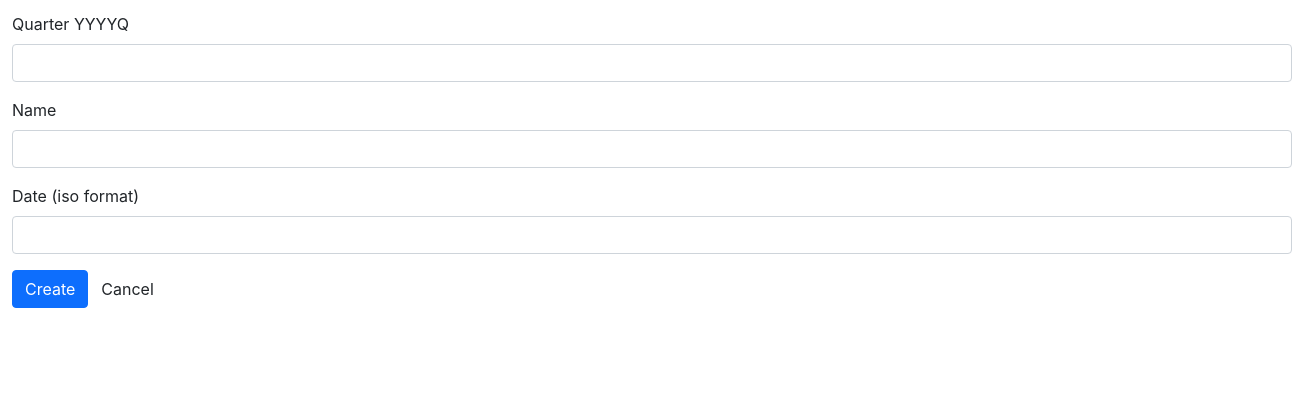
Test: UCSBDateForm tests › Correct Error messsages on bad input
Step 1. Type "bad-input" into the field with test id "UCSBDateForm-quarterYYYYQ" → {"x": 652, "y": 63}, box [12, 44, 1292, 82]
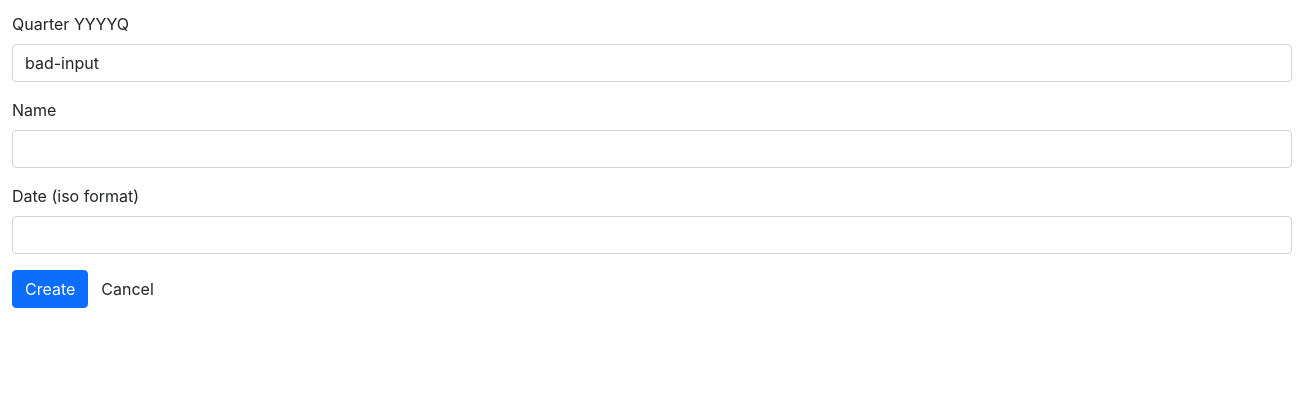
Step 2. Type "bad-input" into the field with test id "UCSBDateForm-localDateTime" → {"x": 652, "y": 235}, box [12, 216, 1292, 254]
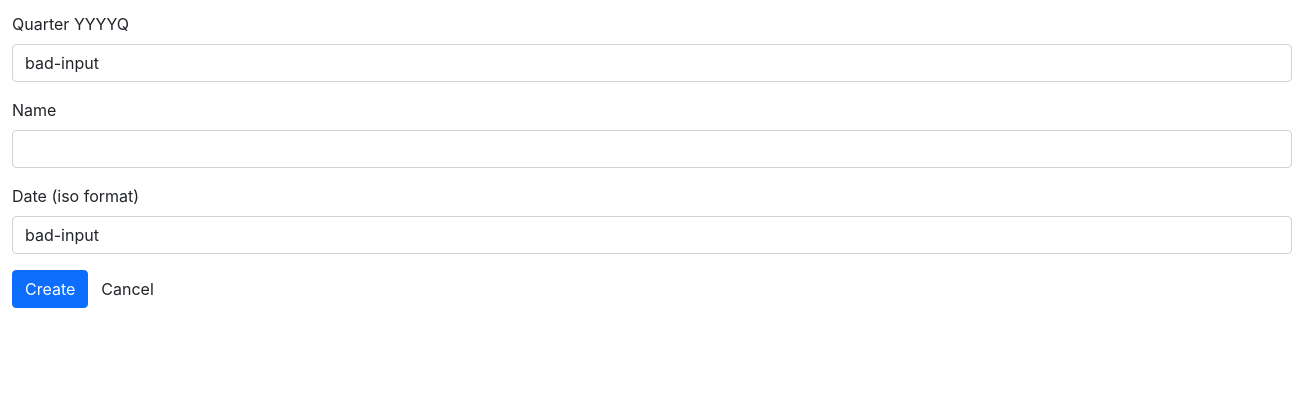
Step 3. Click the button with test id "UCSBDateForm-submit" → {"x": 50, "y": 289}, box [12, 270, 88, 308]
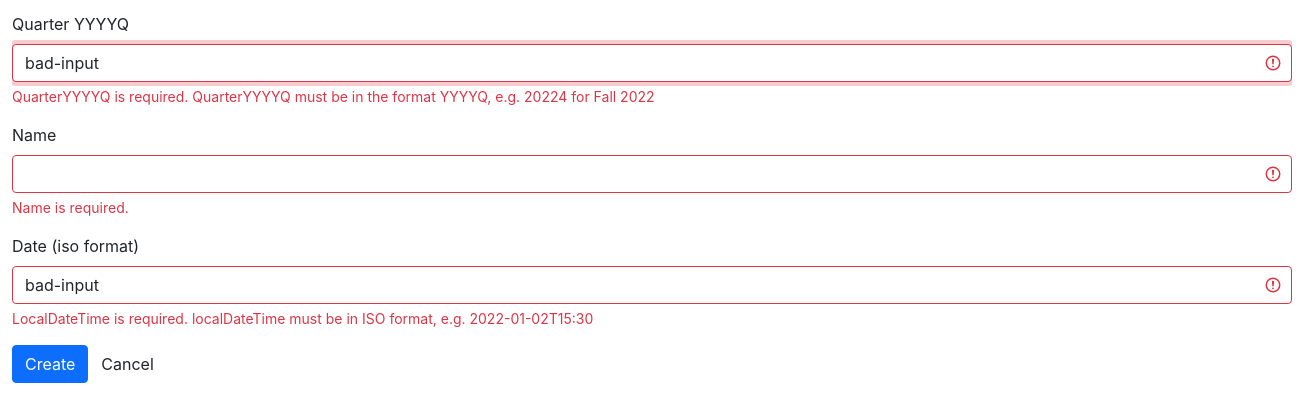
Now the text "QuarterYYYYQ must be in the format YYYYQ" is shown, box [192, 88, 655, 105]
Now the text "localDateTime must be in ISO format" is shown, box [192, 310, 593, 327]
